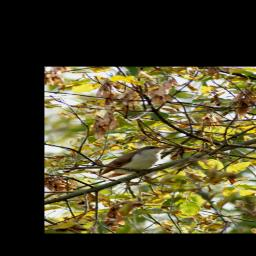Cuckoo: (89, 142, 175, 177)
